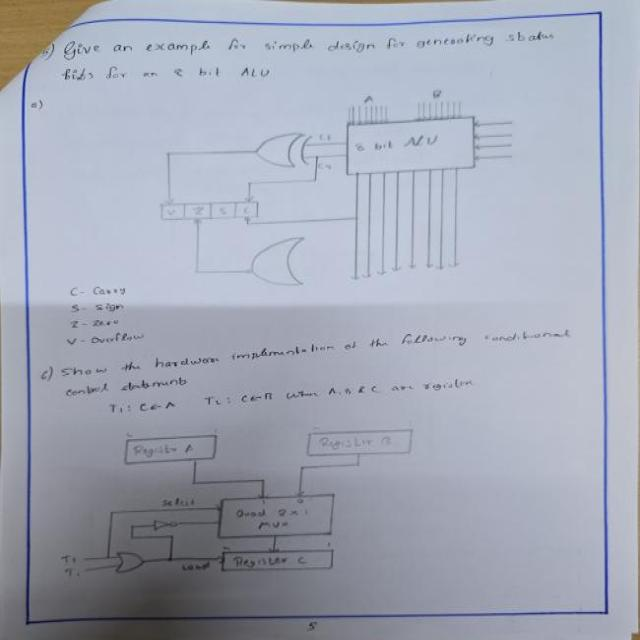Figure Detection - v3 Dataset Version2: (150, 75, 528, 300), (53, 423, 421, 595)
